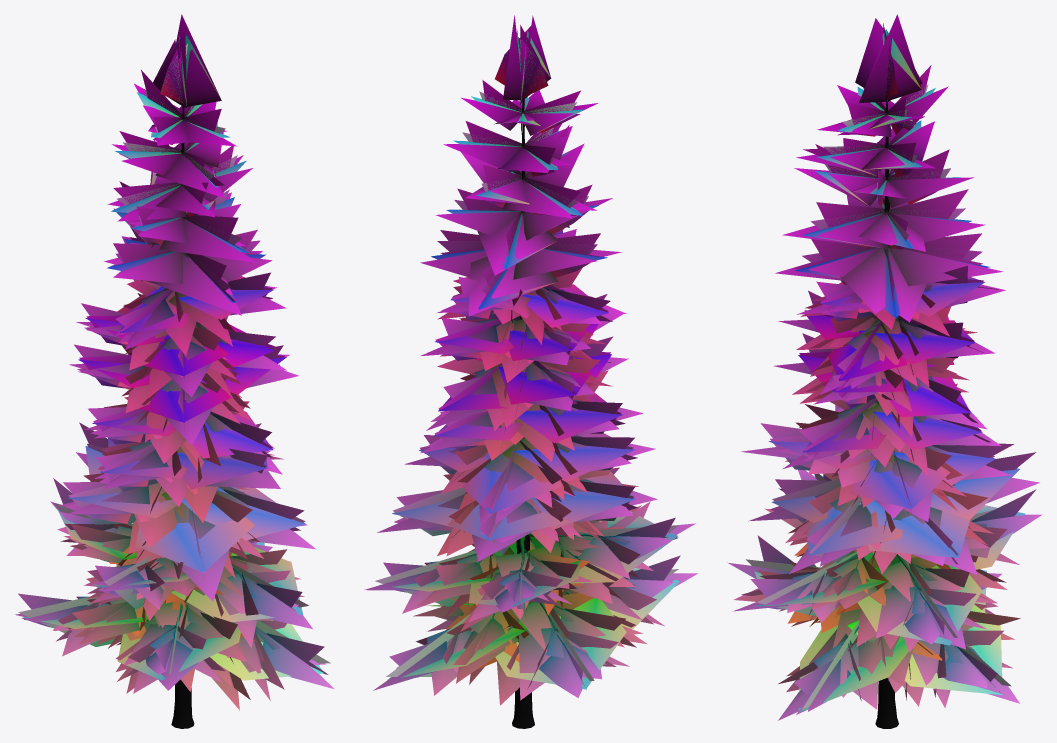
File: pacificsilverfir_middle.fbx
3 views of the same model, side by side, from view 1: azimuth 30°, elevation 25°; view 2: azimuth 150°, elevation 25°; view 3: azimuth 270°, elevation 25° (orthographic).
Visible parts, largest first — view 1: tree_branches_lod0, tree_shadow, tree_trunk_lod0; view 2: tree_branches_lod0, tree_shadow, tree_trunk_lod0; view 3: tree_branches_lod0, tree_shadow, tree_trunk_lod0.
Boxes of the visible parts, bbox=[...] form: tree_branches_lod0: bbox=[15, 14, 334, 710]; tree_shadow: bbox=[18, 35, 330, 680]; tree_trunk_lod0: bbox=[171, 103, 233, 728]; tree_branches_lod0: bbox=[364, 15, 697, 705]; tree_shadow: bbox=[375, 30, 679, 689]; tree_trunk_lod0: bbox=[466, 97, 586, 728]; tree_branches_lod0: bbox=[727, 14, 1042, 720]; tree_shadow: bbox=[746, 29, 1025, 711]; tree_trunk_lod0: bbox=[838, 98, 914, 728].
Size of what is drawn, in the model's own units: 9.3 by 25.58 by 10.28.
